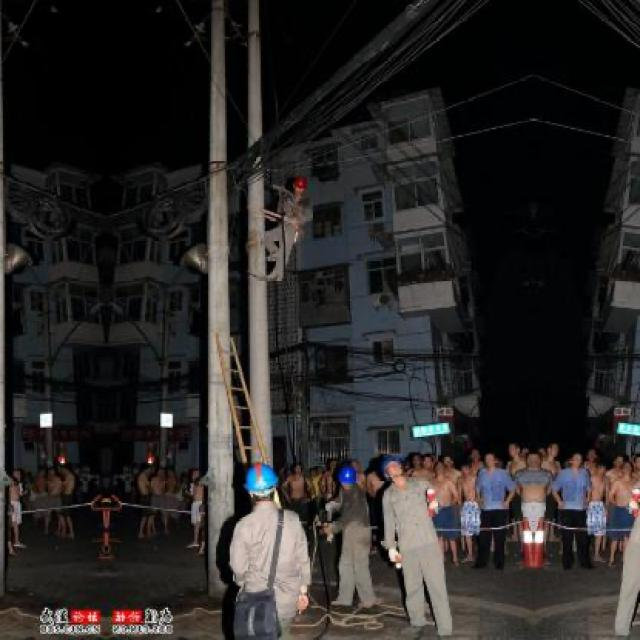con casco: (208, 445, 318, 550), (373, 443, 433, 531), (321, 437, 387, 504)
